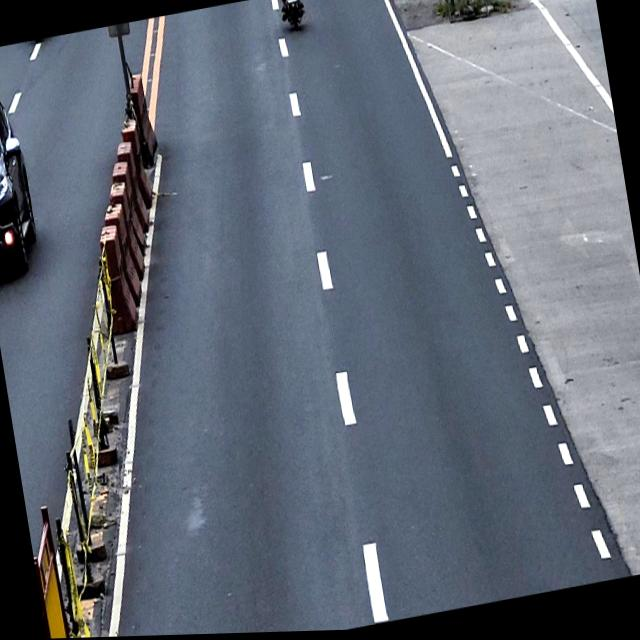Car: (0, 83, 43, 278)
License-Plate: (286, 0, 298, 6)
Motorcycle: (277, 0, 307, 34)
